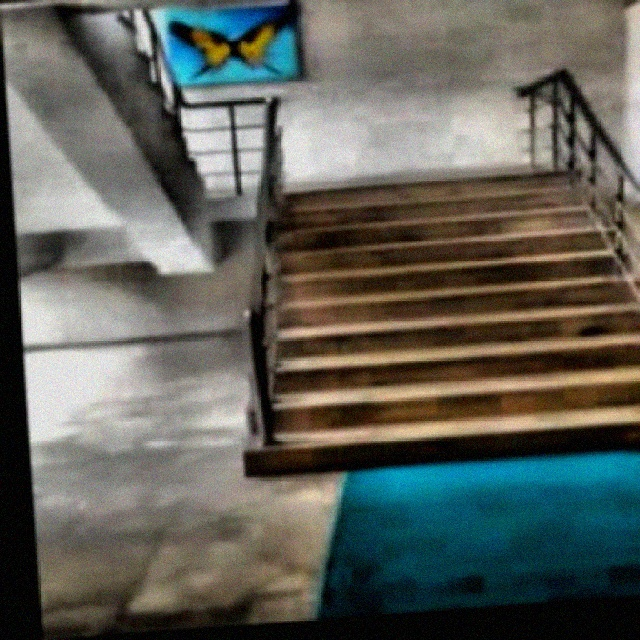stair: (218, 176, 638, 478)
